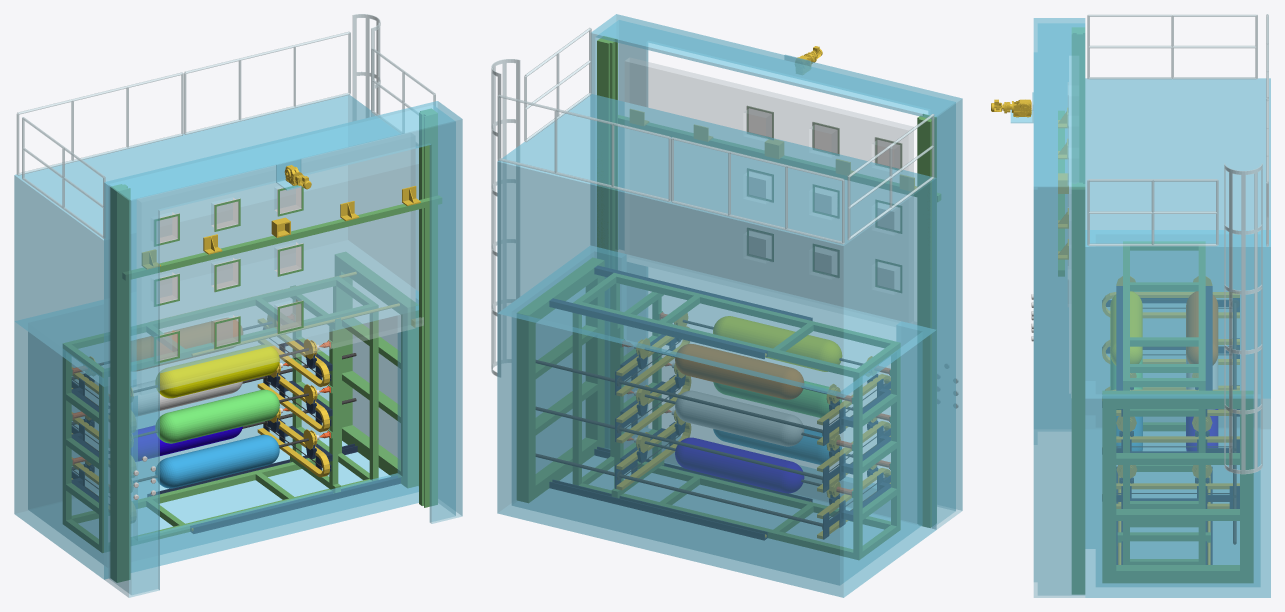
The picture shows the model from 3 angles, left to right: view 1: azimuth 30°, elevation 25°; view 2: azimuth 150°, elevation 25°; view 3: azimuth 270°, elevation 25°; orthographic projection. The views are drawn at different scales.
Visible parts, largest first — view 1: 炉体.001, 门框架, 炉体, 门体, 导轨, 小框架, 大框架, 窗, 下1瓶, 中1瓶, 上1瓶, 移动框架 (+15 smaller); view 2: 炉体.001, 炉体, 门框架, 小框架, 门体, 大框架, 导轨, 螺杆罩, 窗, 爬梯护栏, 中2瓶, 下2瓶 (+20 smaller); view 3: 炉体.001, 炉体, 门框架, 大框架, 小框架, 导轨, 爬梯护栏, 移动框架, 护栏4, 护栏1, 螺杆罩, 上1瓶 (+13 smaller).
Part boxes in pixels (<box>): 炉体.001: <box>14,94,418,386</box>; 门框架: <box>104,101,462,597</box>; 炉体: <box>14,290,418,579</box>; 门体: <box>160,148,423,390</box>; 导轨: <box>110,108,437,582</box>; 小框架: <box>63,276,378,552</box>; 大框架: <box>335,252,418,487</box>; 窗: <box>154,185,303,363</box>; 下1瓶: <box>155,434,279,488</box>; 中1瓶: <box>155,389,279,443</box>; 上1瓶: <box>155,345,279,398</box>; 移动框架: <box>290,285,340,493</box>; 炉体.001: <box>497,94,936,397</box>; 炉体: <box>497,246,936,597</box>; 门框架: <box>590,14,962,529</box>; 小框架: <box>573,273,900,559</box>; 门体: <box>625,57,913,172</box>; 大框架: <box>517,257,604,502</box>; 导轨: <box>597,36,936,527</box>; 螺杆罩: <box>549,265,812,540</box>; 窗: <box>746,105,902,292</box>; 爬梯护栏: <box>491,59,520,377</box>; 中2瓶: <box>675,391,803,446</box>; 下2瓶: <box>675,438,803,493</box>; 炉体.001: <box>1085,78,1270,398</box>; 炉体: <box>1085,230,1270,597</box>; 门框架: <box>1010,18,1085,597</box>; 大框架: <box>1102,391,1253,582</box>; 小框架: <box>1123,241,1205,564</box>; 导轨: <box>1072,27,1084,594</box>; 爬梯护栏: <box>1224,163,1262,474</box>; 移动框架: <box>1118,364,1210,542</box>; 护栏4: <box>1087,14,1257,79</box>; 护栏1: <box>1087,179,1218,246</box>; 螺杆罩: <box>1116,286,1212,564</box>; 上1瓶: <box>1110,291,1142,364</box>.
Size of the model in its own units: 6.09 by 6.98 by 4.07.
